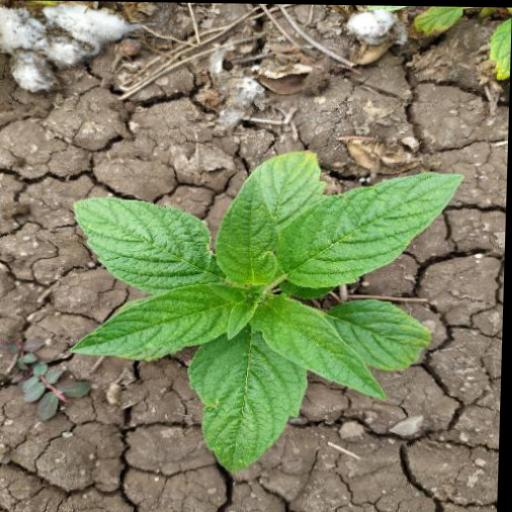crop: (56, 146, 449, 481)
